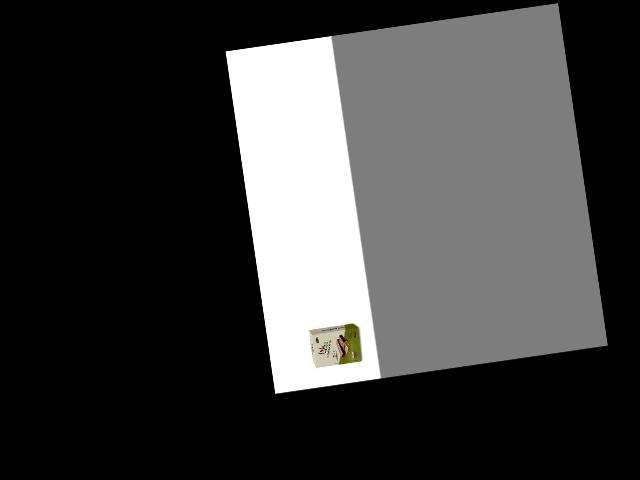chocolate: (307, 319, 364, 369)
